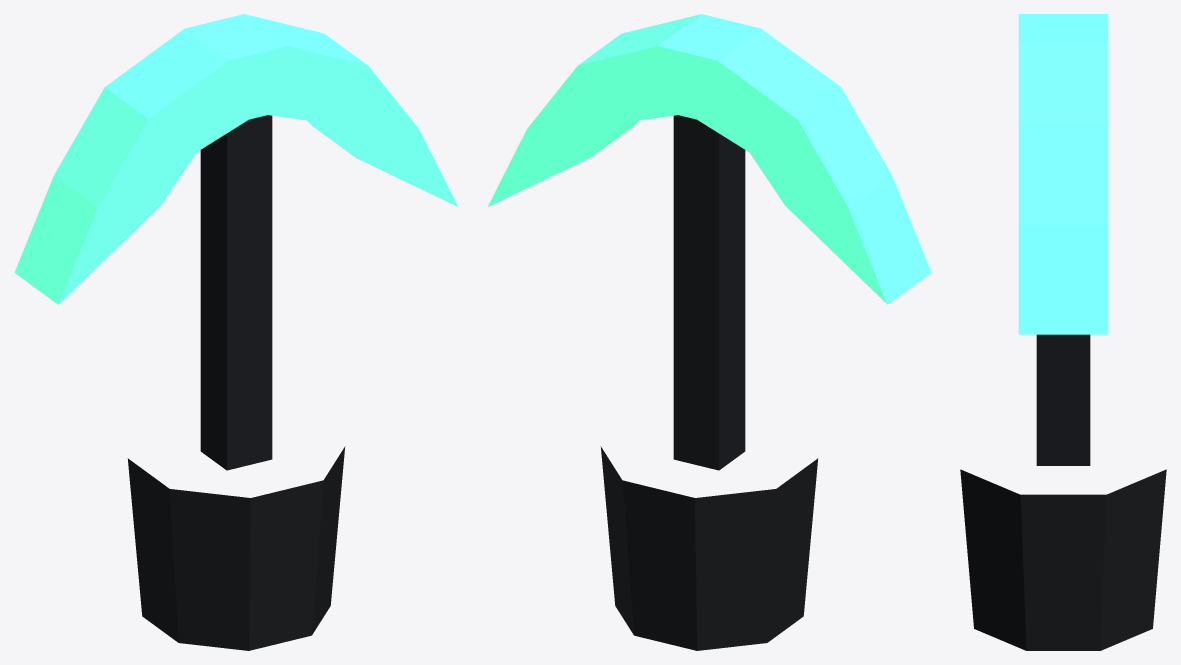
Rendered from daemon_MINER.glb.
3 views of the same model, side by side, from view 1: azimuth 30°, elevation 25°; view 2: azimuth 150°, elevation 25°; view 3: azimuth 270°, elevation 25° (orthographic).
Visible parts, largest first — view 1: Mesh; view 2: Mesh; view 3: Mesh.
Part boxes in pixels (<box>): Mesh: <box>14,14,458,650</box>; Mesh: <box>487,14,931,650</box>; Mesh: <box>960,14,1166,650</box>.
Size of the model in its own units: 0.0316 by 0.0433 by 0.0139.
